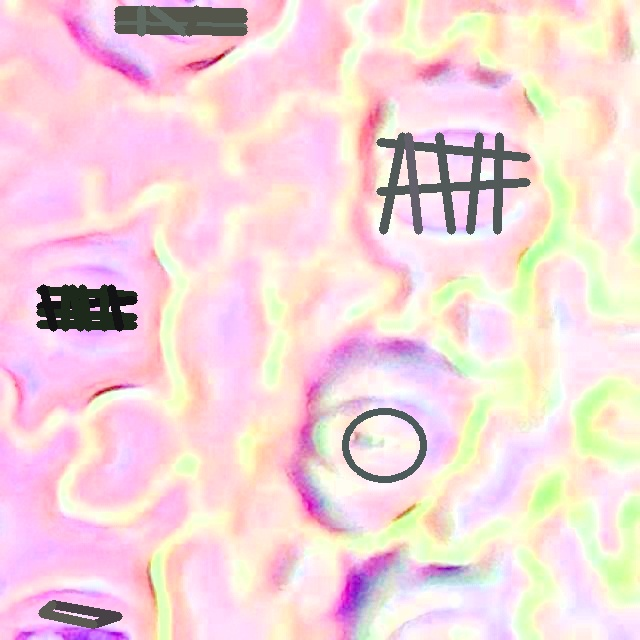open: (377, 133, 529, 233), (341, 407, 427, 482), (36, 284, 137, 331), (114, 5, 247, 36), (38, 600, 122, 627)
